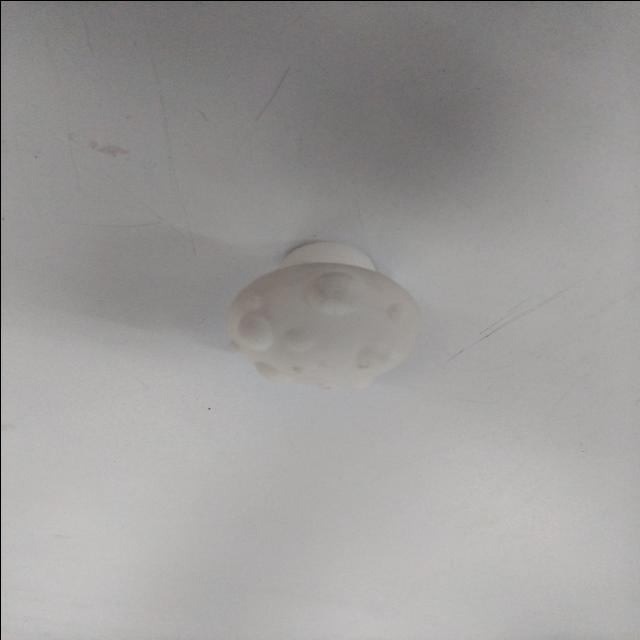Hongo: (220, 238, 426, 379)
